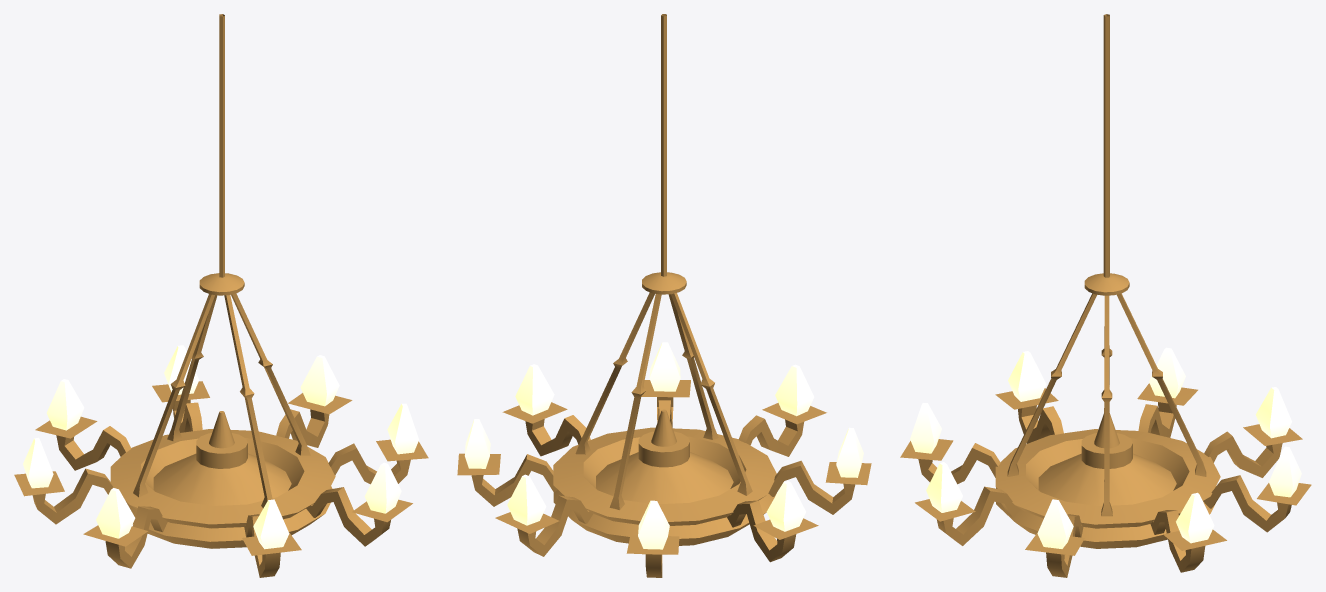
File: S_Chandelier.fbx
3 renders of one model, left to right at view 1: azimuth 30°, elevation 25°; view 2: azimuth 150°, elevation 25°; view 3: azimuth 270°, elevation 25°, orthographic.
Parts seen in each view (by area): view 1: S_Chandelier; view 2: S_Chandelier; view 3: S_Chandelier.
Boxes of the visible parts, box(x1,y1,x2,y2) form: S_Chandelier: box(14, 14, 428, 577); S_Chandelier: box(457, 14, 871, 577); S_Chandelier: box(900, 14, 1311, 577).
Size of the model in its own units: 110 by 157 by 111.
